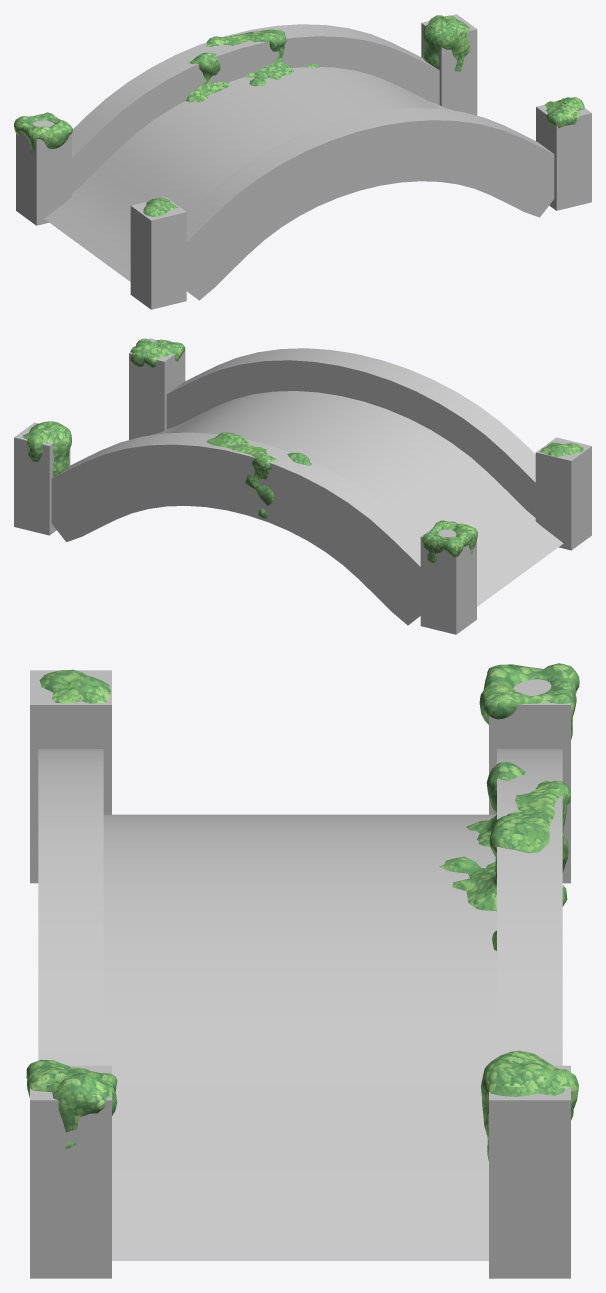
Rendered from bridge_rocks_01.fbx.
3 views of the same model, one above another, from view 1: azimuth 30°, elevation 25°; view 2: azimuth 150°, elevation 25°; view 3: azimuth 270°, elevation 25° (orthographic). The views are drawn at different scales.
Parts seen in each view (by area): view 1: bridge, moss; view 2: bridge, moss; view 3: bridge, moss.
Part boxes in pixels (x1,y1,x2,y2): bridge: (16,14,591,309); moss: (14,15,584,216); bridge: (14,338,591,634); moss: (23,338,583,562); bridge: (30,670,570,1278); moss: (26,663,579,1160).
Size of the model in its own units: 786 by 226 by 422.
